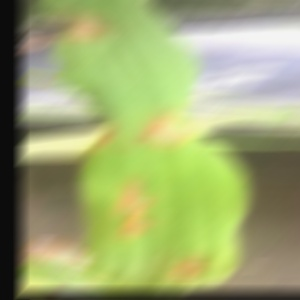Brown_Spot: (153, 230, 233, 287), (134, 102, 201, 154), (106, 172, 168, 217), (56, 8, 109, 52), (115, 214, 160, 243)
